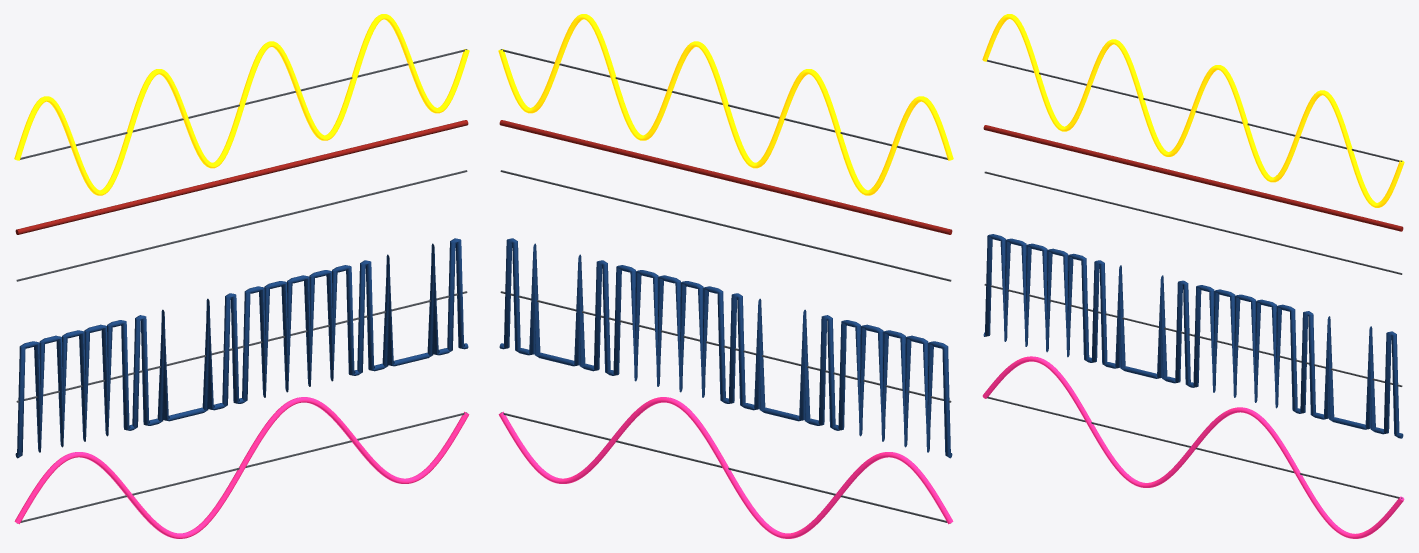
File: variable_frequency_drive_waveforms.glb
The picture shows the model from 3 angles, left to right: view 1: azimuth 30°, elevation 25°; view 2: azimuth 150°, elevation 25°; view 3: azimuth 330°, elevation 25°; orthographic projection. The views are drawn at different scales.
Visible parts, largest first — view 1: waveforms; view 2: waveforms; view 3: waveforms.
Boxes of the visible parts, x1,y1,x2,y2 form: waveforms: (14, 14, 469, 538); waveforms: (498, 14, 953, 538); waveforms: (982, 14, 1404, 538).
Size of the model in its own units: 0.7076 by 0.708 by 0.008.
